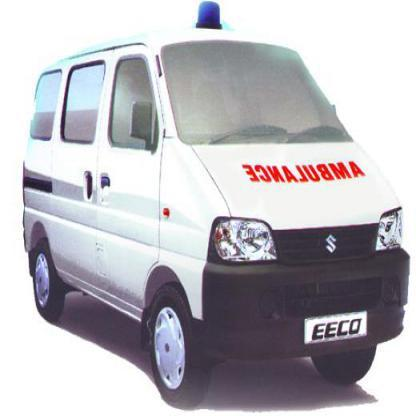Ambulance - v1 Ambulance last generate: (24, 31, 406, 384)
